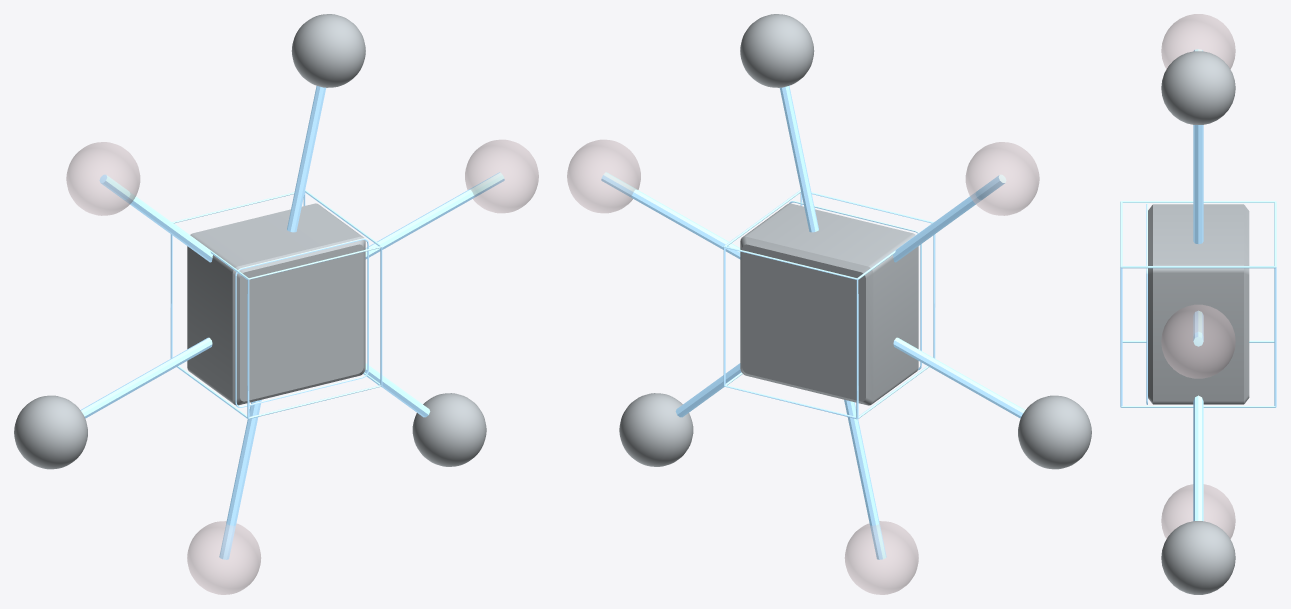
Rendered from 36-connectors.glb.
The picture shows the model from 3 angles, left to right: view 1: azimuth 30°, elevation 25°; view 2: azimuth 150°, elevation 25°; view 3: azimuth 270°, elevation 25°; orthographic projection.
Visible parts, largest first — view 1: BC thin clear technical glass, BC subtle ruby technical glass, BC cool glass edge; view 2: BC thin clear technical glass, BC subtle ruby technical glass, BC cool glass edge; view 3: BC thin clear technical glass, BC subtle ruby technical glass, BC cool glass edge.
Part boxes in pixels (x1,y1,x2,y2): BC thin clear technical glass: (14,14,486,469); BC subtle ruby technical glass: (66,139,538,594); BC cool glass edge: (80,86,504,559); BC thin clear technical glass: (619,14,1091,469); BC subtle ruby technical glass: (567,139,1039,594); BC cool glass edge: (601,86,1025,559); BC thin clear technical glass: (1148,51,1249,594); BC subtle ruby technical glass: (1161,14,1235,538); BC cool glass edge: (1120,49,1276,521).
Size of the model in its own units: 2.25 by 2.29 by 0.5886.
